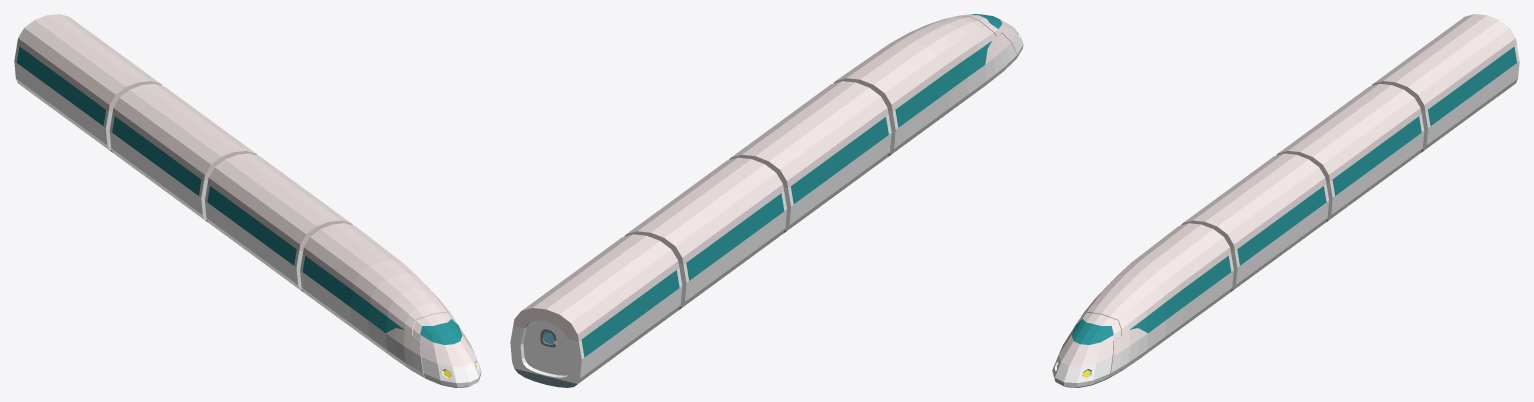
The model's file is Bullet_Train_01.obj.
The picture shows the model from 3 angles, left to right: view 1: azimuth 30°, elevation 25°; view 2: azimuth 150°, elevation 25°; view 3: azimuth 330°, elevation 25°; orthographic projection. The views are drawn at different scales.
Parts seen in each view (by area): view 1: Cube.024_Cube.1; view 2: Cube.024_Cube.1; view 3: Cube.024_Cube.1.
Part boxes in pixels (x1=…): Cube.024_Cube.1: x1=14, y1=14, x2=481, y2=387; Cube.024_Cube.1: x1=510, y1=14, x2=1023, y2=387; Cube.024_Cube.1: x1=1052, y1=14, x2=1519, y2=387.
Bounding box in the file's own units: 2.78 × 2.81 × 31.38.
